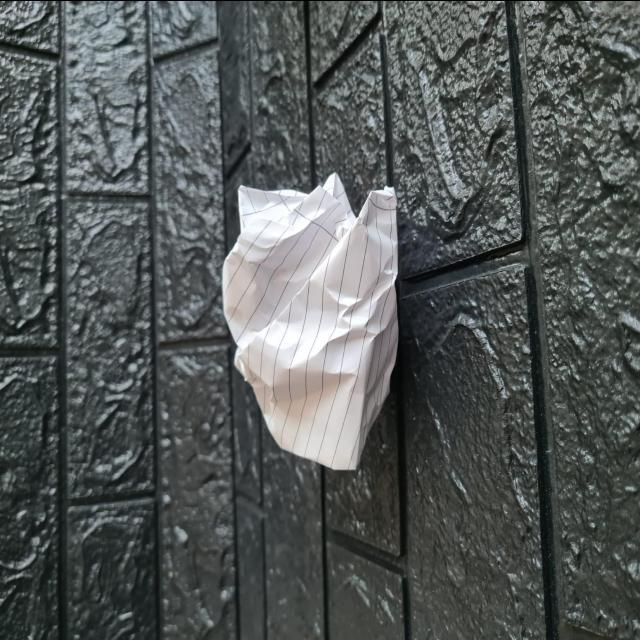kertas: (220, 174, 406, 476)
